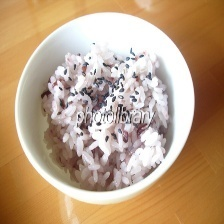rice: (38, 49, 170, 192)
